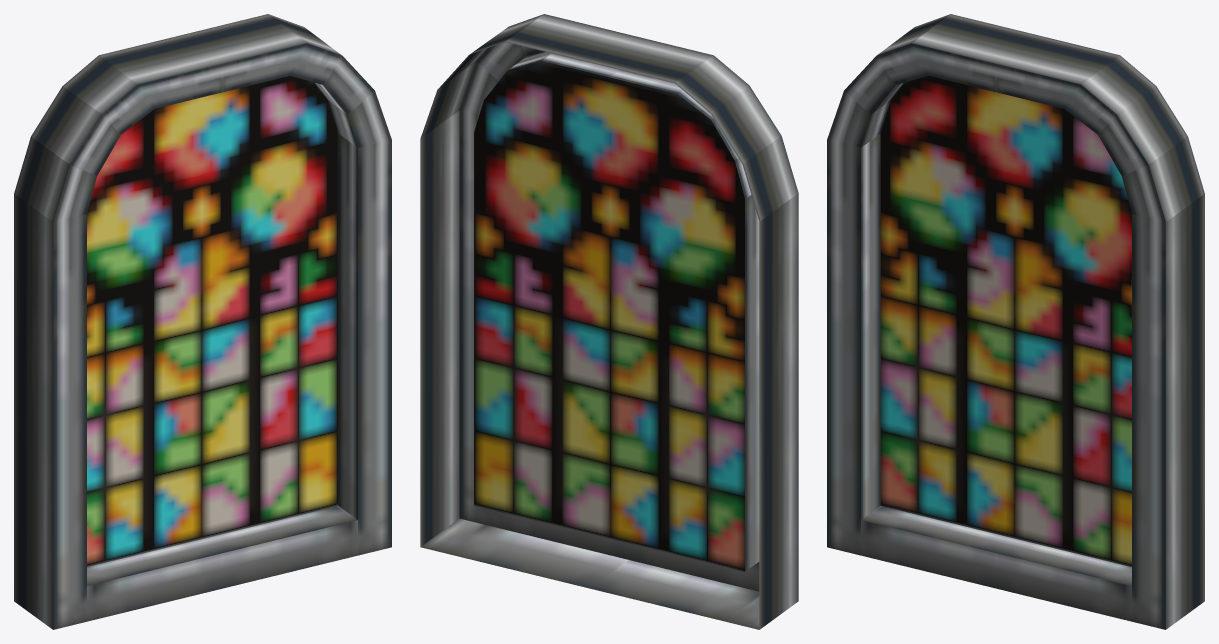
Rendered from Poly_Window_10.obj.
The picture shows the model from 3 angles, left to right: view 1: azimuth 30°, elevation 25°; view 2: azimuth 150°, elevation 25°; view 3: azimuth 330°, elevation 25°; orthographic projection.
Parts seen in each view (by area): view 1: Cube_Cube.003; view 2: Cube_Cube.003; view 3: Cube_Cube.003.
Boxes of the visible parts, x1,y1,x2,y2 form: Cube_Cube.003: (14, 14, 391, 629); Cube_Cube.003: (420, 14, 798, 629); Cube_Cube.003: (827, 14, 1204, 629).
Size of the model in its own units: 1 by 1.48 by 0.2.
Materials: 1 (1 with a texture image).
